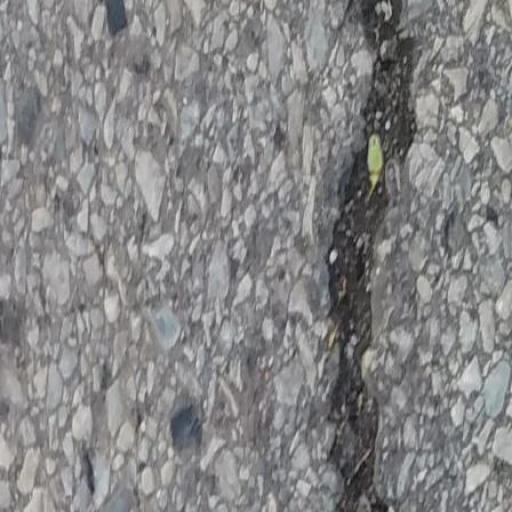spalling: (320, 5, 429, 508)
